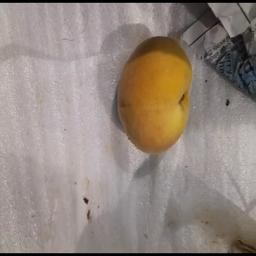Peach Fresh: (117, 34, 196, 152)
